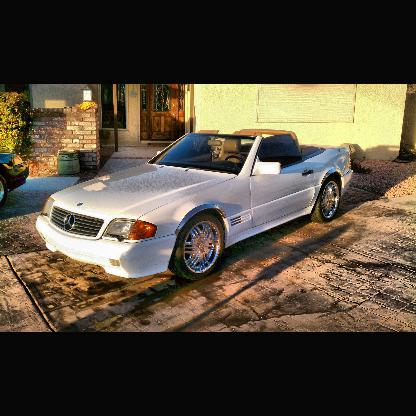Mercedes-Benz 300-Class Convertible 1993: (37, 129, 353, 282)
